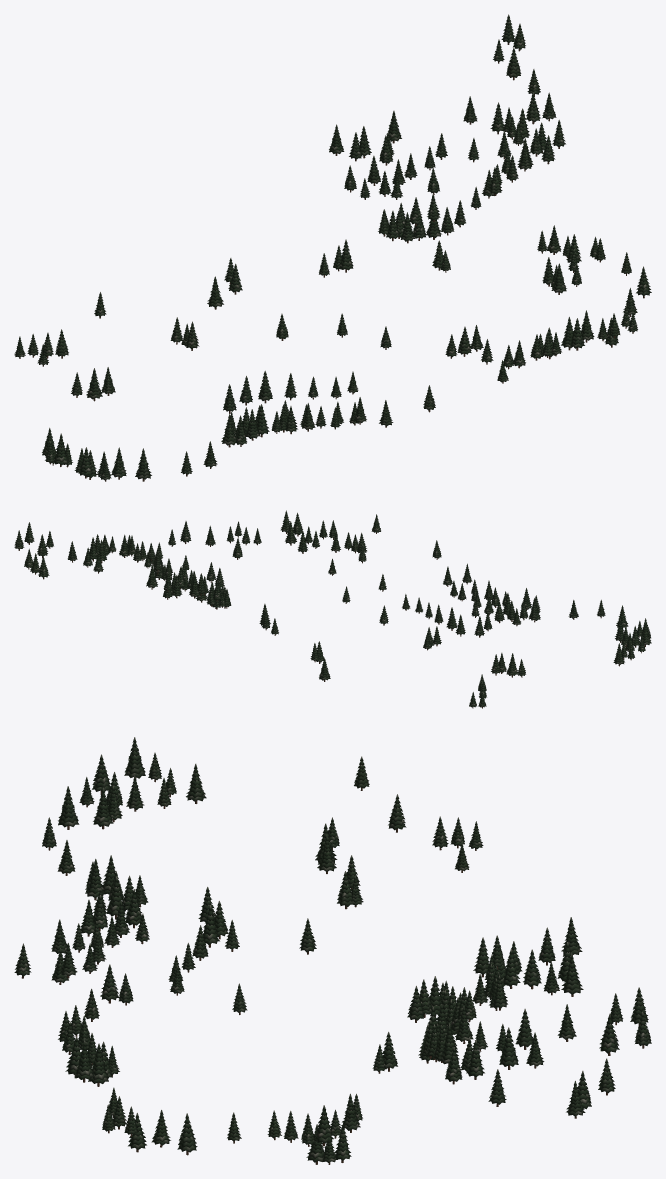
The model's file is Pinares.glb.
3 renders of one model, top to bottom at view 1: azimuth 30°, elevation 25°; view 2: azimuth 150°, elevation 25°; view 3: azimuth 270°, elevation 25°, orthographic. The views are drawn at different scales.
Bounding box in the file's own units: 325 × 79.5 × 205.
